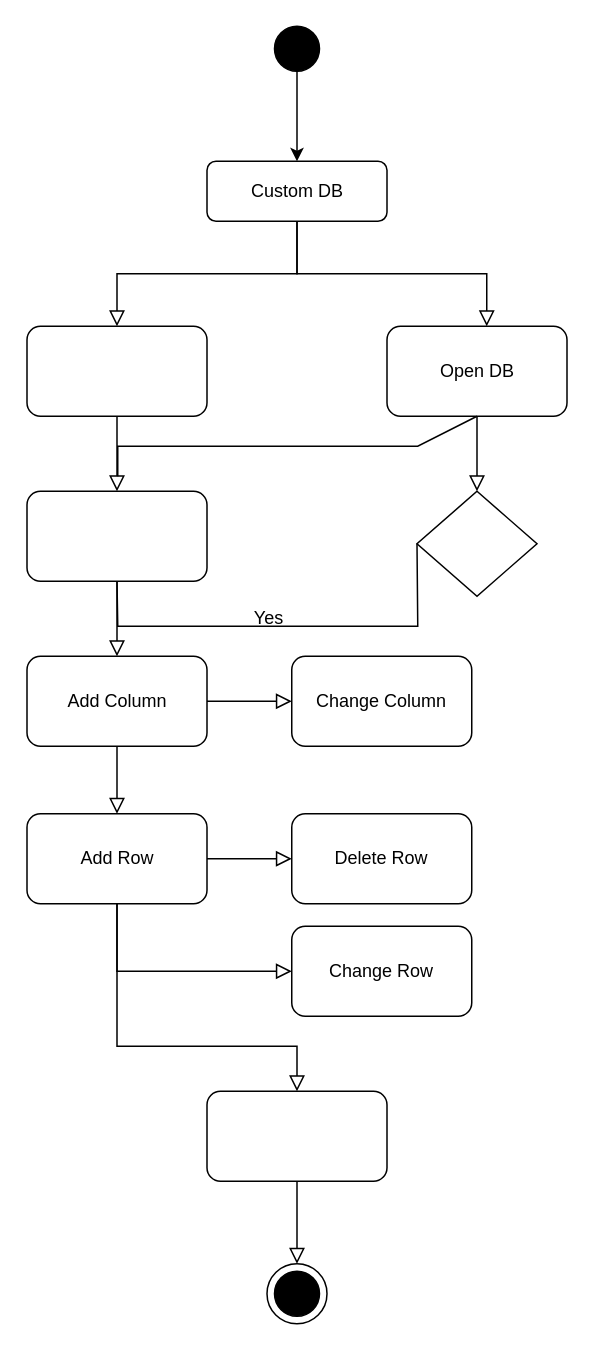
The diagram is 593 pixels wide and 1350 high, and some of its shapes have lost their labels. Each missing label, with the box of its shape:
Add Table: (26, 490, 207, 581)
Create DB: (26, 325, 207, 416)
is there at least one table?: (416, 490, 537, 596)
Save DB: (206, 1090, 387, 1181)
